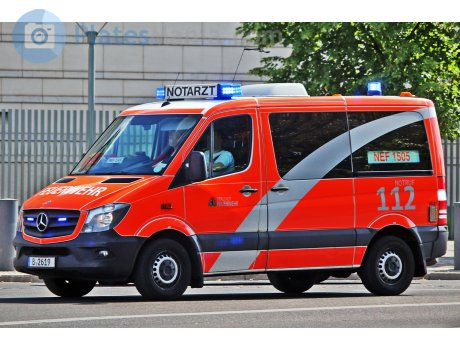License Plates: (31, 245, 58, 267)
